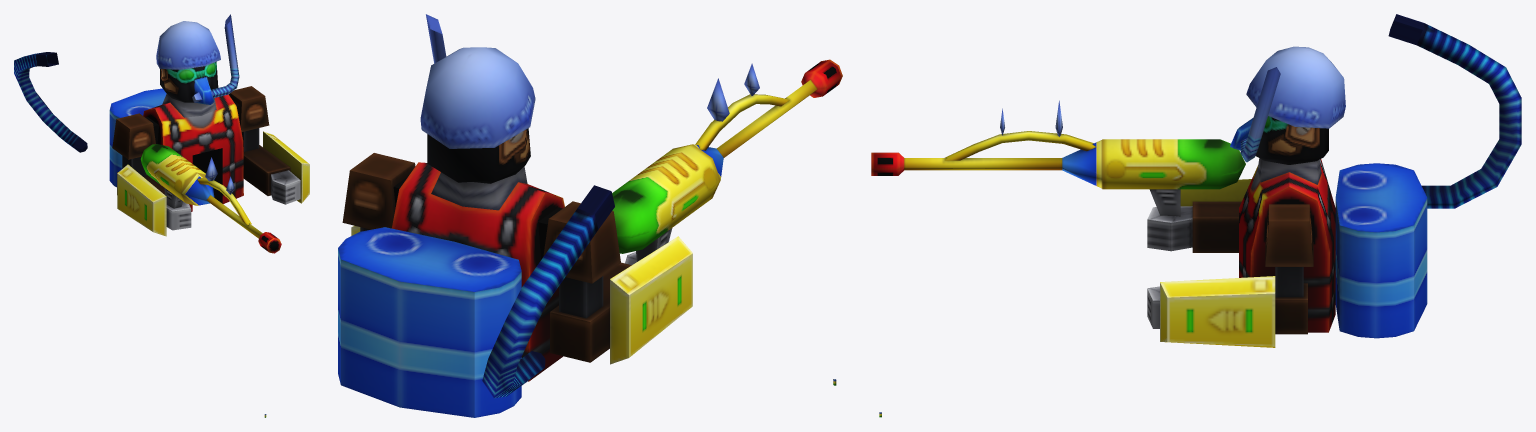
File: datan_common_ss0_arm91_snop_365f7d38.obj
The picture shows the model from 3 angles, left to right: view 1: azimuth 30°, elevation 25°; view 2: azimuth 150°, elevation 25°; view 3: azimuth 270°, elevation 25°; orthographic projection. The views are drawn at different scales.
Visible parts, largest first — view 1: datan_common_ss0_arm91_snop_365f7d38_mesh00, datan_common_ss0_arm91_snop_365f7d38_mesh03, datan_common_ss0_arm91_snop_365f7d38_mesh06, datan_common_ss0_arm91_snop_365f7d38_mesh02, datan_common_ss0_arm91_snop_365f7d38_mesh05, datan_common_ss0_arm91_snop_365f7d38_mesh08, datan_common_ss0_arm91_snop_365f7d38_mesh04, datan_common_ss0_arm91_snop_365f7d38_mesh01; view 2: datan_common_ss0_arm91_snop_365f7d38_mesh00, datan_common_ss0_arm91_snop_365f7d38_mesh03, datan_common_ss0_arm91_snop_365f7d38_mesh06, datan_common_ss0_arm91_snop_365f7d38_mesh05, datan_common_ss0_arm91_snop_365f7d38_mesh08, datan_common_ss0_arm91_snop_365f7d38_mesh04, datan_common_ss0_arm91_snop_365f7d38_mesh01; view 3: datan_common_ss0_arm91_snop_365f7d38_mesh00, datan_common_ss0_arm91_snop_365f7d38_mesh06, datan_common_ss0_arm91_snop_365f7d38_mesh03, datan_common_ss0_arm91_snop_365f7d38_mesh02, datan_common_ss0_arm91_snop_365f7d38_mesh08, datan_common_ss0_arm91_snop_365f7d38_mesh05, datan_common_ss0_arm91_snop_365f7d38_mesh01.
Part boxes in pixels (<box>): datan_common_ss0_arm91_snop_365f7d38_mesh00: <box>109,88,243,211</box>; datan_common_ss0_arm91_snop_365f7d38_mesh03: <box>156,14,239,104</box>; datan_common_ss0_arm91_snop_365f7d38_mesh06: <box>140,144,281,253</box>; datan_common_ss0_arm91_snop_365f7d38_mesh02: <box>243,131,309,204</box>; datan_common_ss0_arm91_snop_365f7d38_mesh05: <box>117,164,191,236</box>; datan_common_ss0_arm91_snop_365f7d38_mesh08: <box>14,52,87,152</box>; datan_common_ss0_arm91_snop_365f7d38_mesh04: <box>112,113,155,176</box>; datan_common_ss0_arm91_snop_365f7d38_mesh01: <box>229,86,269,151</box>; datan_common_ss0_arm91_snop_365f7d38_mesh00: <box>338,162,564,417</box>; datan_common_ss0_arm91_snop_365f7d38_mesh03: <box>420,14,535,183</box>; datan_common_ss0_arm91_snop_365f7d38_mesh06: <box>612,59,842,253</box>; datan_common_ss0_arm91_snop_365f7d38_mesh05: <box>550,228,692,364</box>; datan_common_ss0_arm91_snop_365f7d38_mesh08: <box>482,185,614,398</box>; datan_common_ss0_arm91_snop_365f7d38_mesh04: <box>543,201,620,318</box>; datan_common_ss0_arm91_snop_365f7d38_mesh01: <box>342,153,415,231</box>; datan_common_ss0_arm91_snop_365f7d38_mesh00: <box>1239,158,1427,338</box>; datan_common_ss0_arm91_snop_365f7d38_mesh06: <box>871,100,1245,189</box>; datan_common_ss0_arm91_snop_365f7d38_mesh03: <box>1230,46,1345,164</box>; datan_common_ss0_arm91_snop_365f7d38_mesh02: <box>1147,276,1307,347</box>; datan_common_ss0_arm91_snop_365f7d38_mesh08: <box>1388,14,1521,208</box>; datan_common_ss0_arm91_snop_365f7d38_mesh05: <box>1147,179,1251,252</box>; datan_common_ss0_arm91_snop_365f7d38_mesh01: <box>1265,204,1313,297</box>.
Bounding box in the file's own units: 1.71 × 2.47 × 3.45.
Materials: 1 (1 with a texture image).
